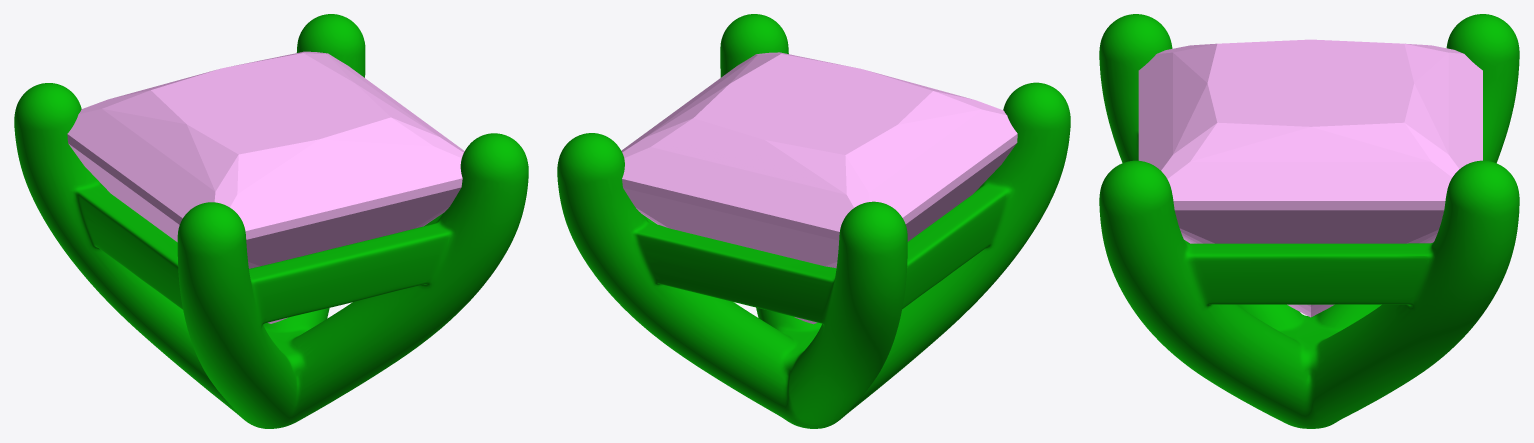
3 views of the same model, side by side, from view 1: azimuth 30°, elevation 25°; view 2: azimuth 150°, elevation 25°; view 3: azimuth 270°, elevation 25° (orthographic). The views are drawn at different scales.
Parts seen in each view (by area): view 1: Metal01, Diamond_Princess; view 2: Metal01, Diamond_Princess; view 3: Metal01, Diamond_Princess.
Boxes of the visible parts, bbox=[...] form: Metal01: bbox=[14, 14, 528, 428]; Diamond_Princess: bbox=[67, 51, 464, 323]; Metal01: bbox=[557, 14, 1070, 428]; Diamond_Princess: bbox=[621, 52, 1017, 324]; Metal01: bbox=[1099, 14, 1519, 428]; Diamond_Princess: bbox=[1138, 39, 1482, 317].
Bounding box in the file's own units: 6.16 × 5.47 × 6.16.
